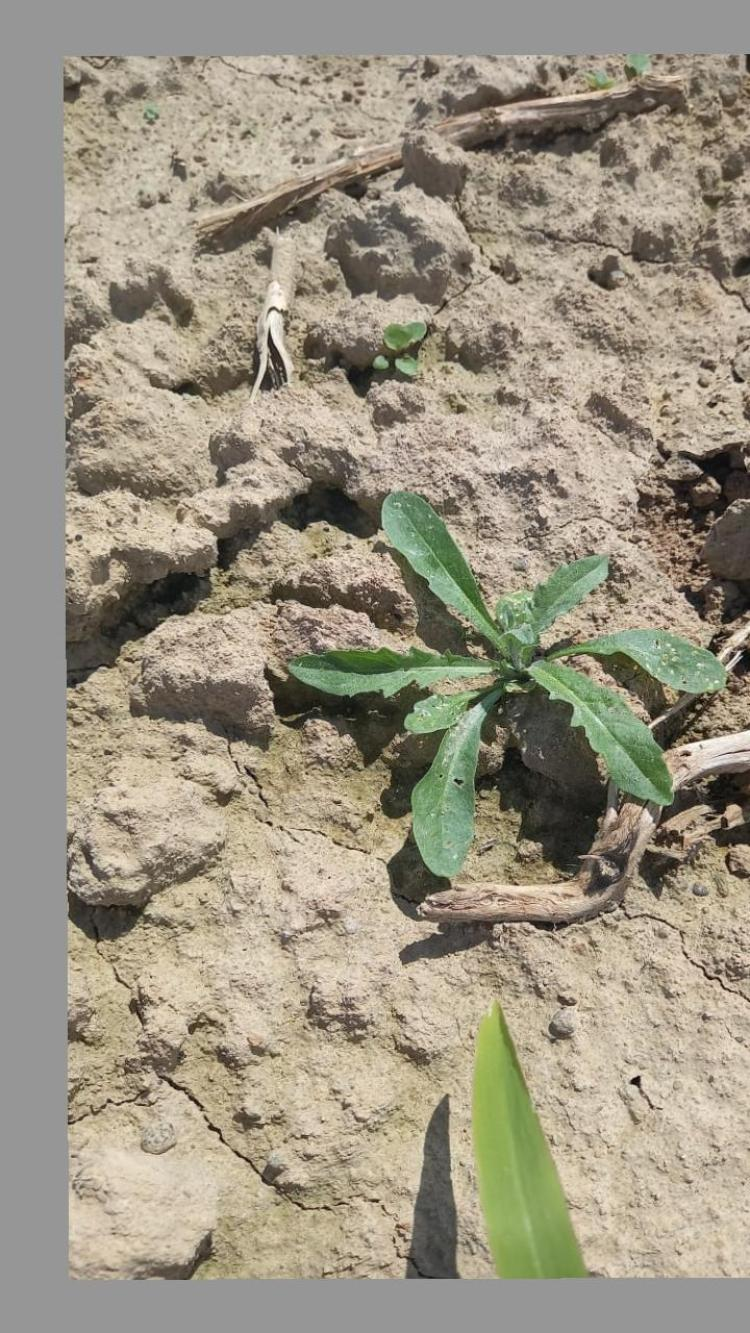osot: (288, 492, 725, 881)
